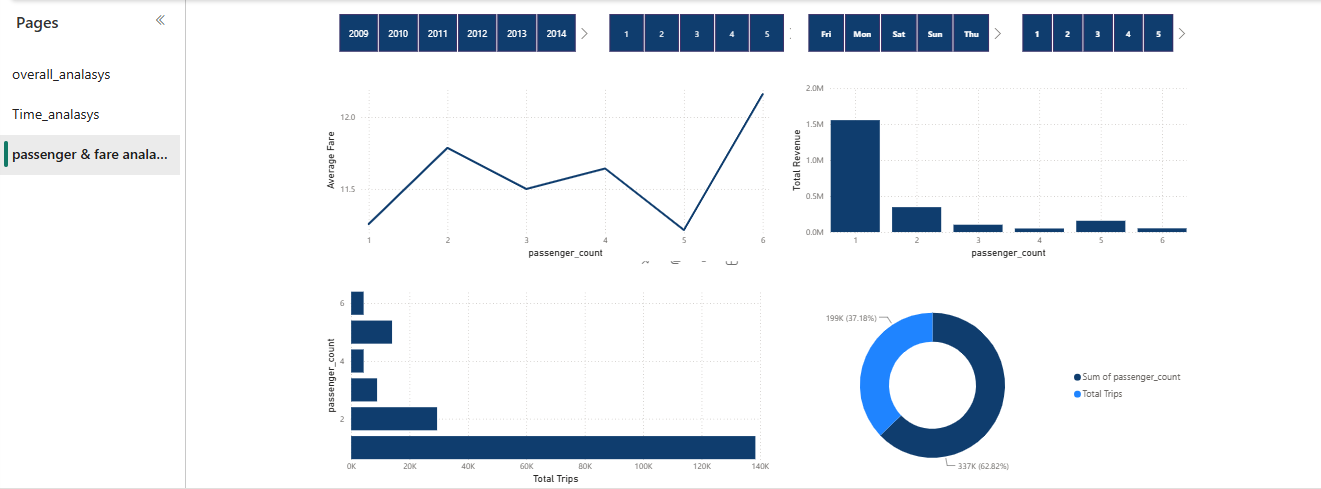

This screenshot's page, from the dashboard's own definition file:
{"tool":"powerbi","page":{"name":"passenger & fare analasys","canvas":[1280,720],"ordinal":2},"visuals":[{"type":"clusteredColumnChart","fields":{"Category":["uber.passenger_count"],"Y":["uber.Total Revenue"]},"box":[686.9,97.9,593.3,288],"z":0},{"type":"clusteredBarChart","fields":{"Category":["uber.passenger_count"],"Y":["uber.Total Trips"]},"box":[0,398.9,665.3,321.1],"z":1000},{"type":"lineChart","fields":{"Category":["uber.passenger_count"],"Y":["uber.Average Fare"]},"box":[0,97.9,665.3,288],"z":2000},{"type":"donutChart","fields":{"Y":["Sum(uber.passenger_count)","uber.Total Trips"]},"box":[686.9,398.9,593.3,321.1],"z":3000},{"type":"slicer","fields":{"Values":["uber.Year"]},"box":[0,0,398,83.4],"z":4000},{"type":"slicer","fields":{"Values":["uber.Month"]},"box":[398,0,307.3,83.4],"z":5000},{"type":"slicer","fields":{"Values":["uber.Weekday"]},"box":[692.2,0,316.1,83.4],"z":6000},{"type":"slicer","fields":{"Values":["uber.passenger_count"]},"box":[1007.8,0,272.2,83.4],"z":7000}]}

Visuals, with their boxes on the page's 1280x720 design canvas (x1, y1, x2, y2). These are canvas units, not pixel positions in the 1321x489 screenshot, which may show the page scaled, cropped or inside an application window:
clusteredColumnChart - uber.passenger_count x uber.Total Revenue: bbox=[687, 98, 1280, 386]
clusteredBarChart - uber.passenger_count x uber.Total Trips: bbox=[0, 399, 665, 720]
lineChart - uber.passenger_count x uber.Average Fare: bbox=[0, 98, 665, 386]
donutChart - Sum(uber.passenger_count) x uber.Total Trips: bbox=[687, 399, 1280, 720]
slicer - uber.Year: bbox=[0, 0, 398, 83]
slicer - uber.Month: bbox=[398, 0, 705, 83]
slicer - uber.Weekday: bbox=[692, 0, 1008, 83]
slicer - uber.passenger_count: bbox=[1008, 0, 1280, 83]
